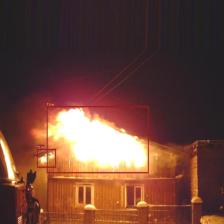fire: (46, 106, 148, 173), (37, 148, 56, 168)
